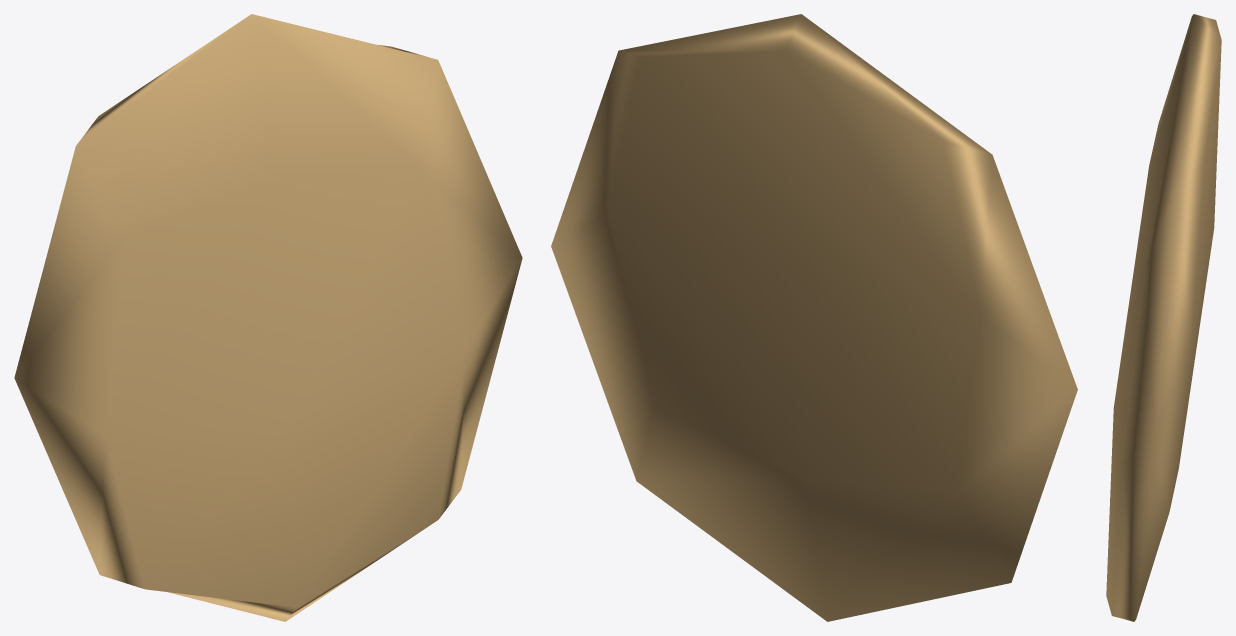
File: claw_T1_left_lower.obj
The picture shows the model from 3 angles, left to right: view 1: azimuth 30°, elevation 25°; view 2: azimuth 150°, elevation 25°; view 3: azimuth 270°, elevation 25°; orthographic projection. The views are drawn at different scales.
Size of the model in its own units: 0.00319 by 0.00359 by 0.00062.
